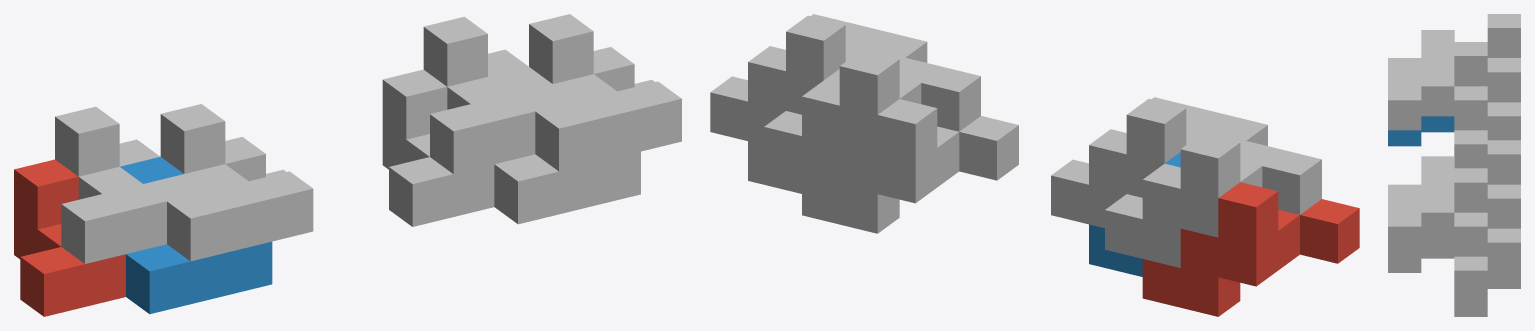
The model's file is tiling.obj.
3 views of the same model, side by side, from view 1: azimuth 30°, elevation 25°; view 2: azimuth 150°, elevation 25°; view 3: azimuth 270°, elevation 25° (orthographic). The views are drawn at different scales.
Visible parts, largest first — view 1: copy_1_domain_4, copy_1_domain_8, copy_1_domain_3, copy_1_domain_7, copy_1_domain_5, copy_1_domain_1, copy_1_domain_6, copy_1_domain_2; view 2: copy_1_domain_1, copy_1_domain_5, copy_1_domain_3, copy_1_domain_7, copy_1_domain_8, copy_1_domain_4, copy_1_domain_2, copy_1_domain_6; view 3: copy_1_domain_8, copy_1_domain_4, copy_1_domain_7, copy_1_domain_3, copy_1_domain_6, copy_1_domain_2, copy_1_domain_5.
Boxes of the visible parts, box(x1,y1,x2,y2) form: copy_1_domain_4: box(160, 104, 313, 261); copy_1_domain_8: box(529, 14, 681, 171); copy_1_domain_3: box(55, 106, 207, 263); copy_1_domain_7: box(423, 16, 575, 174); copy_1_domain_5: box(382, 69, 494, 226); copy_1_domain_1: box(14, 159, 125, 316); copy_1_domain_6: box(488, 67, 640, 224); copy_1_domain_2: box(120, 157, 272, 314); copy_1_domain_1: box(1142, 182, 1359, 316); copy_1_domain_5: box(802, 99, 1018, 233); copy_1_domain_3: box(1105, 131, 1321, 267); copy_1_domain_7: box(764, 48, 980, 184); copy_1_domain_8: box(710, 14, 927, 144); copy_1_domain_4: box(1051, 97, 1267, 228); copy_1_domain_2: box(1089, 152, 1180, 276); copy_1_domain_6: box(748, 69, 839, 193); copy_1_domain_8: box(1388, 168, 1487, 300); copy_1_domain_4: box(1388, 42, 1487, 168); copy_1_domain_7: box(1421, 140, 1520, 272); copy_1_domain_3: box(1421, 14, 1520, 140); copy_1_domain_6: box(1388, 242, 1487, 316); copy_1_domain_2: box(1388, 116, 1454, 146); copy_1_domain_5: box(1487, 273, 1520, 288).
Size of the model in its own units: 16 by 4 by 4.
